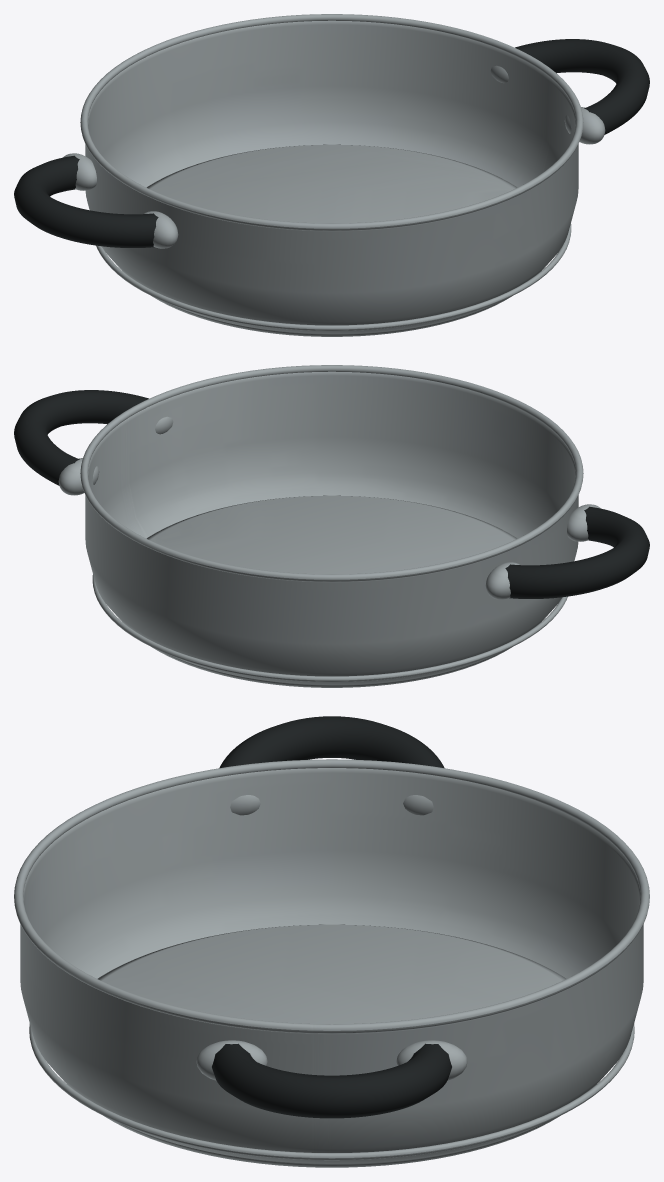
The model's file is cookware__steamer_bottom_pot.glb.
The picture shows the model from 3 angles, top to bottom: view 1: azimuth 30°, elevation 25°; view 2: azimuth 150°, elevation 25°; view 3: azimuth 270°, elevation 25°; orthographic projection. The views are drawn at different scales.
Parts seen in each view (by area): view 1: vessel; view 2: vessel; view 3: vessel.
Boxes of the visible parts, x1,y1,x2,y2 form: vessel: (14,14,649,336); vessel: (14,365,649,687); vessel: (14,716,649,1167).
Bounding box in the file's own units: 0.3759 × 0.076 × 0.2673.
2 materials, 1 textured.
